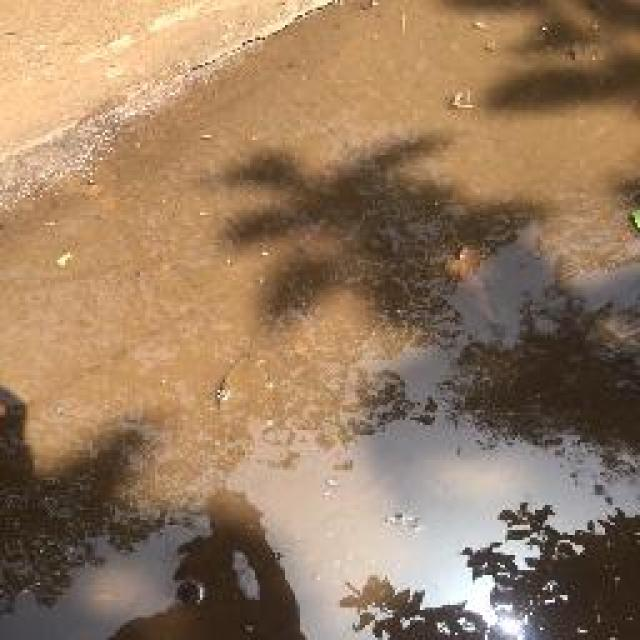stagnation: (48, 312, 640, 639)
